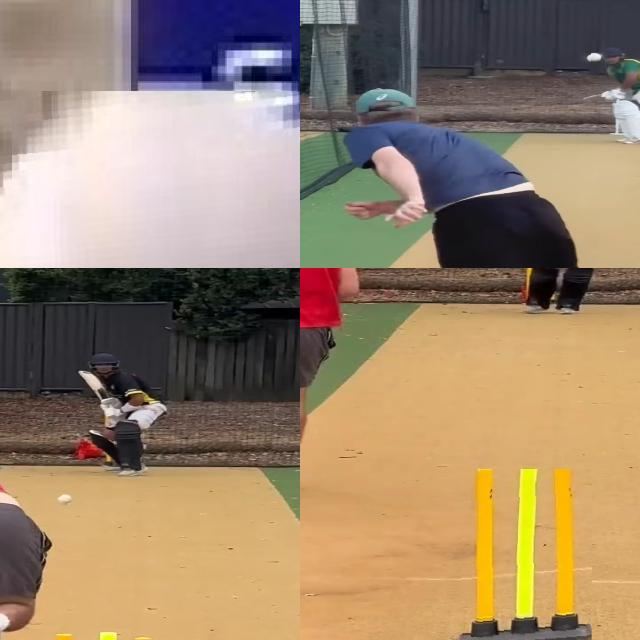Cricket ball: (0, 90, 300, 268), (585, 52, 605, 64), (56, 494, 73, 505)
Stumps: (454, 469, 592, 640)
